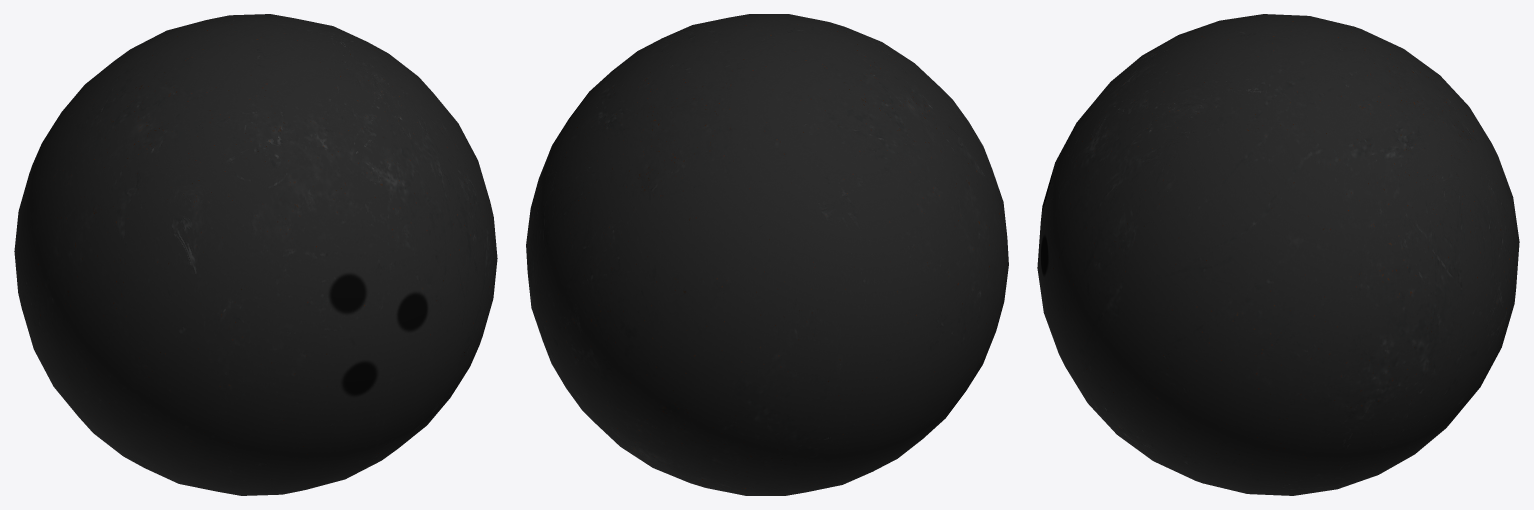
The model's file is Boliche.glb.
3 views of the same model, side by side, from view 1: azimuth 30°, elevation 25°; view 2: azimuth 150°, elevation 25°; view 3: azimuth 270°, elevation 25° (orthographic).
Visible parts, largest first — view 1: Boliche; view 2: Boliche; view 3: Boliche.
Boxes of the visible parts, box(x1,y1,x2,y2) form: Boliche: box(14, 14, 497, 495); Boliche: box(526, 14, 1008, 495); Boliche: box(1037, 14, 1519, 495).
Bounding box in the file's own units: 2.26 × 2.26 × 2.27.
1 material, 1 textured.
